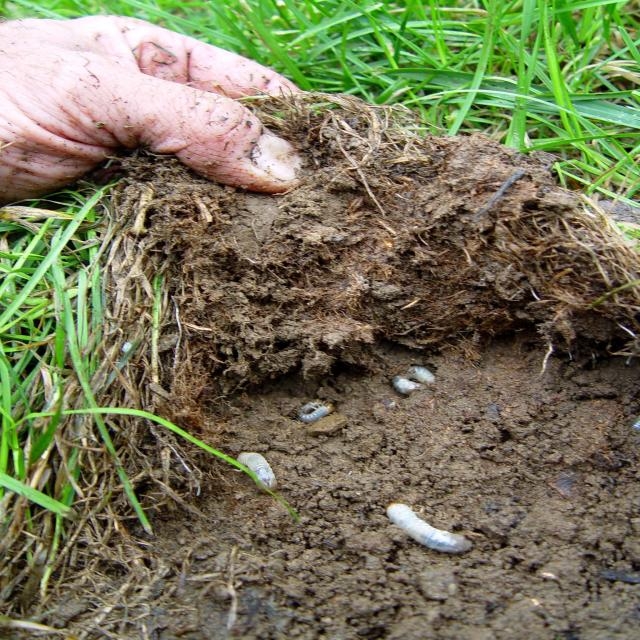Grub-Adult-: (376, 491, 509, 579), (375, 365, 459, 409), (283, 390, 357, 436), (220, 434, 284, 487)
